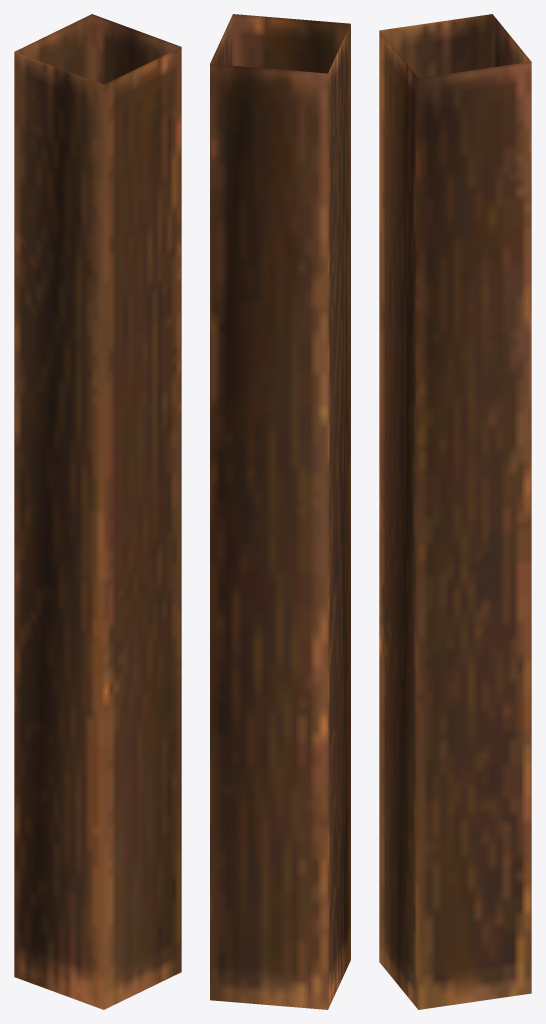
File: SWORDLIGHT20_JAILPLATSUPPORT82.fbx
3 views of the same model, side by side, from view 1: azimuth 30°, elevation 25°; view 2: azimuth 150°, elevation 25°; view 3: azimuth 270°, elevation 25° (orthographic).
Parts seen in each view (by area): view 1: SWORDLIGHT20_JAILPLATSUPPORT82; view 2: SWORDLIGHT20_JAILPLATSUPPORT82; view 3: SWORDLIGHT20_JAILPLATSUPPORT82.
Boxes of the visible parts, x1=… form: SWORDLIGHT20_JAILPLATSUPPORT82: x1=14, y1=14, x2=181, y2=1009; SWORDLIGHT20_JAILPLATSUPPORT82: x1=210, y1=14, x2=350, y2=1009; SWORDLIGHT20_JAILPLATSUPPORT82: x1=379, y1=14, x2=531, y2=1009.
Size of the model in its own units: 5084 by 34376 by 5084.
Materials: 1 (1 with a texture image).
